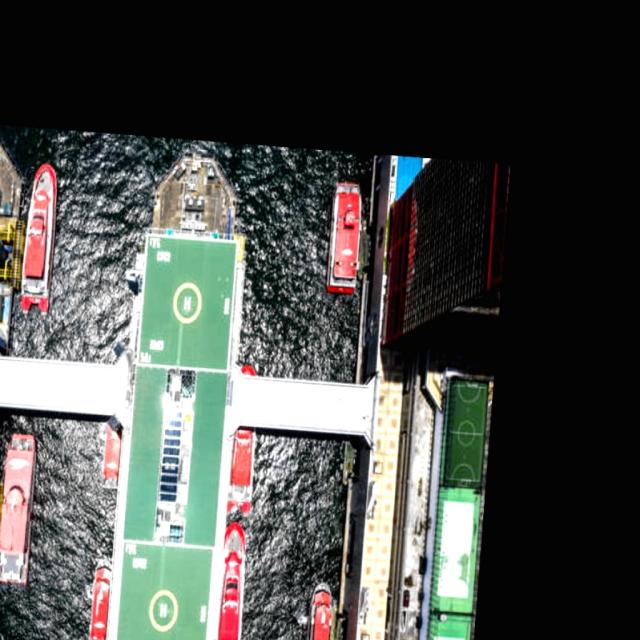helipad: (146, 587, 180, 632), (170, 280, 202, 324)
